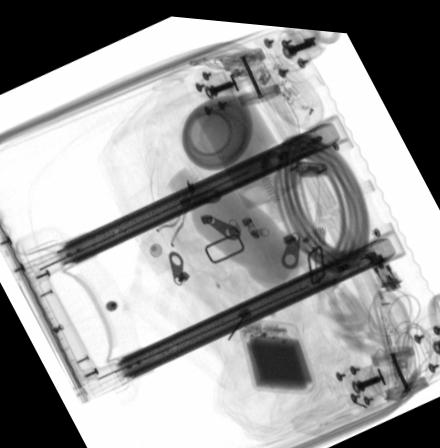Powerbank: (236, 315, 315, 388)
